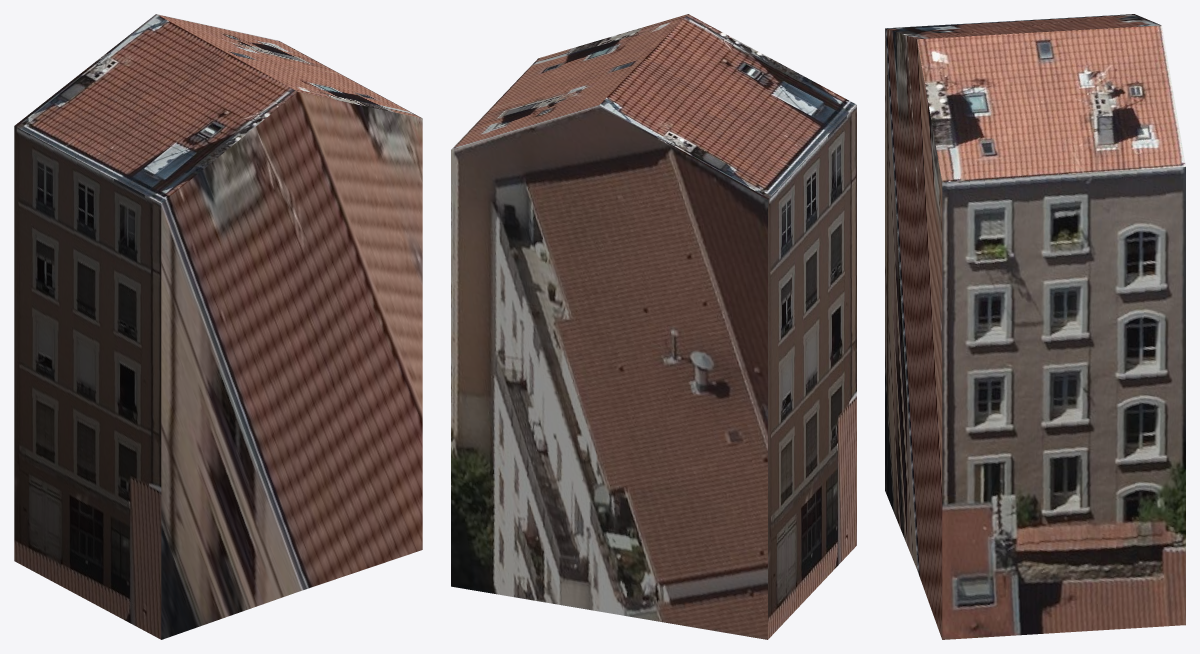
3 views of the same model, side by side, from view 1: azimuth 30°, elevation 25°; view 2: azimuth 150°, elevation 25°; view 3: azimuth 270°, elevation 25° (orthographic). The views are drawn at different scales.
Visible parts, largest first — view 1: Z_UP; view 2: Z_UP; view 3: Z_UP.
Part boxes in pixels (x1,y1,x2,y2): Z_UP: (14, 14, 422, 639); Z_UP: (451, 14, 856, 639); Z_UP: (885, 14, 1185, 639).
Bounding box in the file's own units: 15.75 × 23.67 × 12.17.
2 materials, 1 textured.
